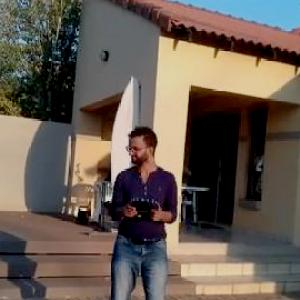follow: (102, 120, 181, 299)
